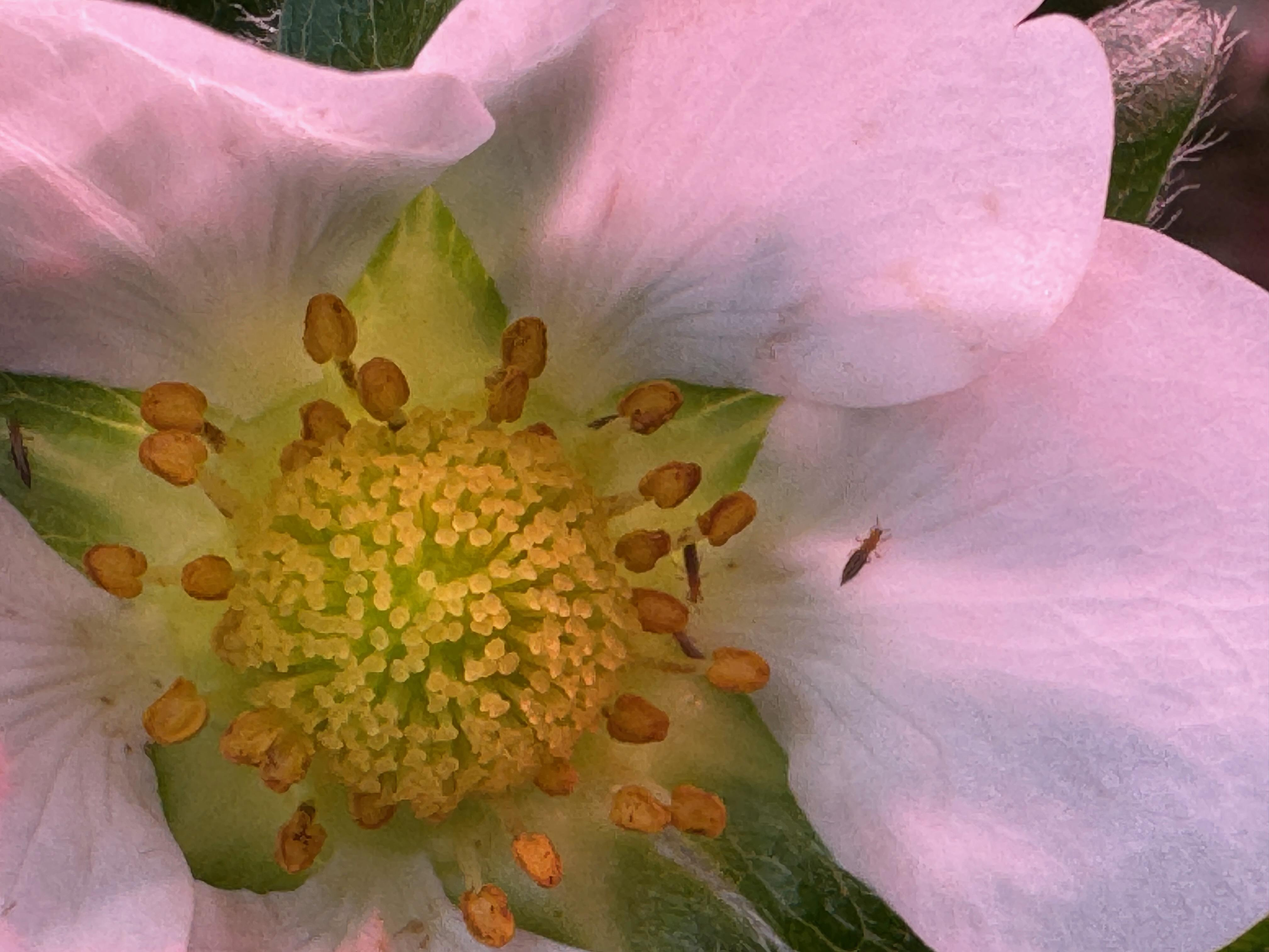tiny_pests: (817, 504, 911, 608), (669, 518, 716, 614)
